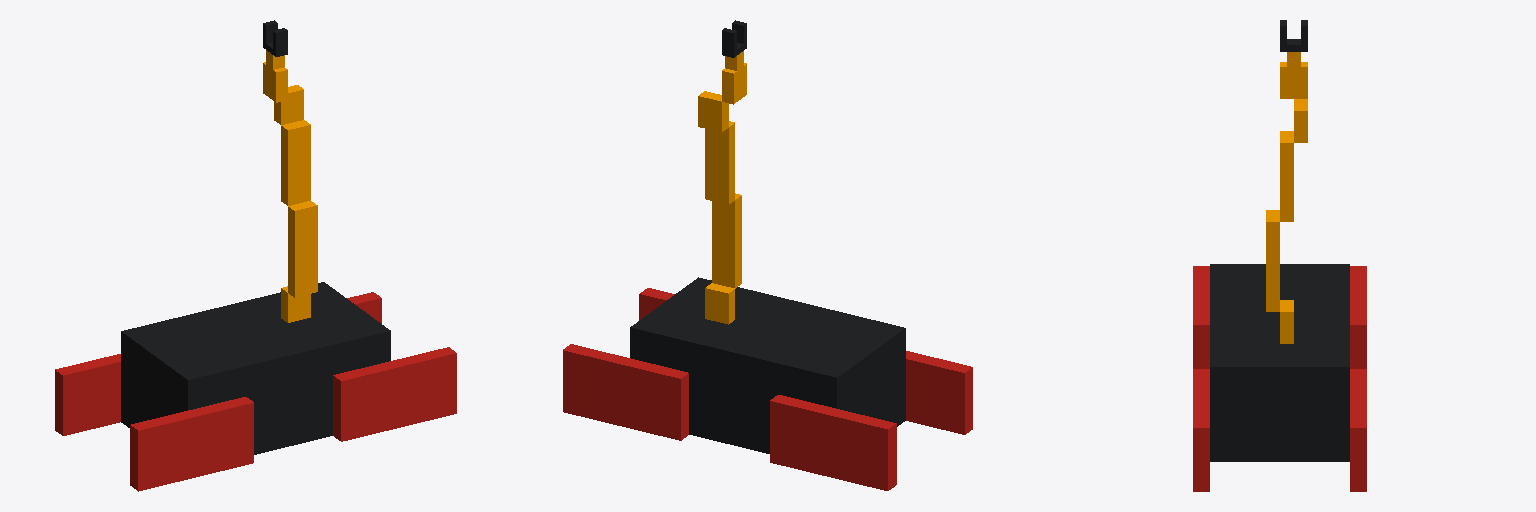
The robot description file, URDF, robot "Lotti":
<?xml version="1.0" ?>
<!-- =================================================================================== -->
<!-- |    This document was autogenerated by xacro from Lotti_main.urdf.xacro          | -->
<!-- |    EDITING THIS FILE BY HAND IS NOT RECOMMENDED                                 | -->
<!-- =================================================================================== -->
<robot name="Lotti">
  <material name="red">
    <color rgba="0.8 0.17254901960784313 0.1411764705882353 1"/>
  </material>
  <material name="black">
    <color rgba="0.15294117647058825 0.1607843137254902 0.16862745098039217 1"/>
  </material>
  <material name="orange">
    <color rgba="1.0 0.6470588235294118 0.0 1"/>
  </material>
  <joint name="arm_link1_joint" type="revolute">
    <origin rpy="0 0 0" xyz="0.14999999999999997 0.02 0.3"/>
    <parent link="body_link"/>
    <child link="arm_link1_link"/>
    <axis xyz="0 0 1"/>
    <limit effort="100" lower="-1.5707963267948966" upper="1.5707963267948966" velocity="10"/>
  </joint>
  <link name="arm_link1_link">
    <visual>
      <origin rpy="0 0 0" xyz="0 0 0.05"/>
      <geometry>
        <box size="0.08 0.04 0.1"/>
      </geometry>
      <material name="orange"/>
    </visual>
    <collision>
      <origin rpy="0 0 0" xyz="0 0 0.05"/>
      <geometry>
        <box size="0.08 0.04 0.1"/>
      </geometry>
    </collision>
    <inertial>
      <origin rpy="0 0 0" xyz="0 0 0.05"/>
      <mass value="0.2"/>
      <inertia ixx="0.0001933333333333334" ixy="0.0" ixz="0.0" iyy="0.00027333333333333333" iyz="0.0" izz="0.00027333333333333333"/>
    </inertial>
  </link>
  <joint name="arm_link2_joint" type="revolute">
    <origin rpy="0 0 0" xyz="0 -0.04 0.1"/>
    <parent link="arm_link1_link"/>
    <child link="arm_link2_link"/>
    <axis xyz="0 1 0"/>
    <limit effort="100" lower="-1.5707963267948966" upper="1.5707963267948966" velocity="10"/>
  </joint>
  <link name="arm_link2_link">
    <visual>
      <origin rpy="0 0 0" xyz="0 0 0.143"/>
      <geometry>
        <box size="0.08 0.04 0.286"/>
      </geometry>
      <material name="orange"/>
    </visual>
    <collision>
      <origin rpy="0 0 0" xyz="0 0 0.143"/>
      <geometry>
        <box size="0.08 0.04 0.286"/>
      </geometry>
    </collision>
    <inertial>
      <origin rpy="0 0 0" xyz="0 0 0.143"/>
      <mass value="0.2"/>
      <inertia ixx="0.001389933333333333" ixy="0.0" ixz="0.0" iyy="0.001469933333333333" iyz="0.0" izz="0.001469933333333333"/>
    </inertial>
  </link>
  <joint name="arm_link3_joint" type="revolute">
    <origin rpy="0 0 0" xyz="0 0.04 0.286"/>
    <parent link="arm_link2_link"/>
    <child link="arm_link3_link"/>
    <axis xyz="0 1 0"/>
    <limit effort="100" lower="-1.5707963267948966" upper="1.5707963267948966" velocity="10"/>
  </joint>
  <link name="arm_link3_link">
    <visual>
      <origin rpy="0 0 0" xyz="0 0 0.125"/>
      <geometry>
        <box size="0.08 0.04 0.25"/>
      </geometry>
      <material name="orange"/>
    </visual>
    <collision>
      <origin rpy="0 0 0" xyz="0 0 0.125"/>
      <geometry>
        <box size="0.08 0.04 0.25"/>
      </geometry>
    </collision>
    <inertial>
      <origin rpy="0 0 0" xyz="0 0 0.125"/>
      <mass value="0.2"/>
      <inertia ixx="0.0010683333333333335" ixy="0.0" ixz="0.0" iyy="0.0011483333333333335" iyz="0.0" izz="0.0011483333333333335"/>
    </inertial>
  </link>
  <joint name="arm_link4_joint" type="revolute">
    <origin rpy="0 0 0" xyz="0 0.04 0.25"/>
    <parent link="arm_link3_link"/>
    <child link="arm_link4_link"/>
    <axis xyz="0 1 0"/>
    <limit effort="100" lower="-1.5707963267948966" upper="1.5707963267948966" velocity="10"/>
  </joint>
  <link name="arm_link4_link">
    <visual>
      <origin rpy="0 0 0" xyz="0 0 0.05"/>
      <geometry>
        <box size="0.08 0.04 0.1"/>
      </geometry>
      <material name="orange"/>
    </visual>
    <collision>
      <origin rpy="0 0 0" xyz="0 0 0.05"/>
      <geometry>
        <box size="0.08 0.04 0.1"/>
      </geometry>
    </collision>
    <inertial>
      <origin rpy="0 0 0" xyz="0 0 0.05"/>
      <mass value="0.2"/>
      <inertia ixx="0.0001933333333333334" ixy="0.0" ixz="0.0" iyy="0.00027333333333333333" iyz="0.0" izz="0.00027333333333333333"/>
    </inertial>
  </link>
  <joint name="arm_link5_joint" type="revolute">
    <origin rpy="0 0 0" xyz="-0.04 -0.02 0.1"/>
    <parent link="arm_link4_link"/>
    <child link="arm_link5_link"/>
    <axis xyz="1 0 0"/>
    <limit effort="100" lower="-1.0471975511965976" upper="1.0471975511965976" velocity="10"/>
  </joint>
  <link name="arm_link5_link">
    <visual>
      <origin rpy="0 0 0" xyz="-0.02 0 0.05"/>
      <geometry>
        <box size="0.04 0.08 0.1"/>
      </geometry>
      <material name="orange"/>
    </visual>
    <collision>
      <origin rpy="0 0 0" xyz="-0.02 0 0.05"/>
      <geometry>
        <box size="0.04 0.08 0.1"/>
      </geometry>
    </collision>
    <inertial>
      <origin rpy="0 0 0" xyz="-0.02 0 0.05"/>
      <mass value="0.2"/>
      <inertia ixx="0.00027333333333333333" ixy="0.0" ixz="0.0" iyy="0.0001933333333333334" iyz="0.0" izz="0.0001933333333333334"/>
    </inertial>
  </link>
  <joint name="arm_link6_joint" type="revolute">
    <origin rpy="0 0 0" xyz="-0.02 0 0.1"/>
    <parent link="arm_link5_link"/>
    <child link="arm_link6_link"/>
    <axis xyz="0 0 -1"/>
    <limit effort="100" lower="-3.141592653589793" upper="3.141592653589793" velocity="10"/>
  </joint>
  <link name="arm_link6_link">
    <visual>
      <origin rpy="0 0 0" xyz="0 0 0.025"/>
      <geometry>
        <box size="0.04 0.04 0.05"/>
      </geometry>
      <material name="orange"/>
    </visual>
    <collision>
      <origin rpy="0 0 0" xyz="0 0 0.025"/>
      <geometry>
        <box size="0.04 0.04 0.05"/>
      </geometry>
    </collision>
    <inertial>
      <origin rpy="0 0 0" xyz="0 0 0.025"/>
      <mass value="0.2"/>
      <inertia ixx="6.833333333333333e-05" ixy="0.0" ixz="0.0" iyy="6.833333333333333e-05" iyz="0.0" izz="6.833333333333333e-05"/>
    </inertial>
  </link>
  <joint name="arm_gripper_joint" type="fixed">
    <origin rpy="0 -1.5707963267948966 0" xyz="0 0 0.05"/>
    <parent link="arm_link6_link"/>
    <child link="arm_gripper_link"/>
  </joint>
  <link name="arm_gripper_link">
    <visual>
      <origin rpy="0 0 0" xyz="0.01 0 0"/>
      <geometry>
        <box size="0.02 0.08 0.04"/>
      </geometry>
      <material name="black"/>
    </visual>
    <visual>
      <origin rpy="0 0 0" xyz="0.05 0.03 0"/>
      <geometry>
        <box size="0.06 0.02 0.04"/>
      </geometry>
      <material name="black"/>
    </visual>
    <visual>
      <origin rpy="0 0 0" xyz="0.05 -0.03 0"/>
      <geometry>
        <box size="0.06 0.02 0.04"/>
      </geometry>
      <material name="black"/>
    </visual>
    <collision>
      <origin rpy="0 0 0" xyz="0.04 0 0"/>
      <geometry>
        <box size="0.08 0.1 0.04"/>
      </geometry>
    </collision>
    <inertial>
      <origin rpy="0 0 0" xyz="0.04 0 0"/>
      <mass value="0.2"/>
      <inertia ixx="0.0001933333333333334" ixy="0.0" ixz="0.0" iyy="0.00013333333333333334" iyz="0.0" izz="0.00013333333333333334"/>
    </inertial>
  </link>
  <link name="body_link">
    <visual>
      <origin rpy="0 0 0" xyz="0 0 0.15"/>
      <geometry>
        <box size="0.7 0.4 0.3"/>
      </geometry>
      <material name="black"/>
    </visual>
    <collision>
      <origin rpy="0 0 0" xyz="0 0 0.15"/>
      <geometry>
        <box size="0.7 0.4 0.3"/>
      </geometry>
    </collision>
    <inertial>
      <origin rpy="0 0 0" xyz="0 0 0.15"/>
      <mass value="25.0"/>
      <inertia ixx="0.5208333333333333" ixy="0.0" ixz="0.0" iyy="1.208333333333333" iyz="0.0" izz="1.208333333333333"/>
    </inertial>
  </link>
  <!-- Front Left Flipper-->
  <joint name="flipper_fr_joint" type="continuous">
    <origin rpy="0 3.141592653589793 0" xyz="0.24999999999999997 0.225 0.1"/>
    <parent link="body_link"/>
    <child link="flipper_fr_link"/>
    <axis xyz="0 1 0"/>
    <!-- <limit effort="100" lower="-1.5707963267948966" upper="1.5707963267948966" velocity="10"/> 
        -->
  </joint>
  <link name="flipper_fr_link">
    <visual>
      <origin rpy="0 0 0" xyz="-0.1 0 0"/>
      <geometry>
        <box size="0.4 0.05 0.2"/>
      </geometry>
      <material name="red"/>
    </visual>
    <collision>
      <origin rpy="0 0 0" xyz="-0.1 0 0"/>
      <geometry>
        <box size="0.4 0.05 0.2"/>
      </geometry>
    </collision>
    <inertial>
      <origin rpy="0 0 0" xyz="-0.1 0 0"/>
      <mass value="3.0"/>
      <inertia ixx="0.010625000000000002" ixy="0.0" ixz="0.0" iyy="0.05000000000000001" iyz="0.0" izz="0.05000000000000001"/>
    </inertial>
  </link>
  <!-- Front Right Flipper-->
  <joint name="flipper_fl_joint" type="continuous">
    <origin rpy="0 3.141592653589793 0" xyz="0.24999999999999997 -0.225 0.1"/>
    <parent link="body_link"/>
    <child link="flipper_fl_link"/>
    <axis xyz="0 1 0"/>
    <!-- <limit effort="100" lower="-1.5707963267948966" upper="1.5707963267948966" velocity="10"/> 
        -->
  </joint>
  <link name="flipper_fl_link">
    <visual>
      <origin rpy="0 0 0" xyz="-0.1 0 0"/>
      <geometry>
        <box size="0.4 0.05 0.2"/>
      </geometry>
      <material name="red"/>
    </visual>
    <collision>
      <origin rpy="0 0 0" xyz="-0.1 0 0"/>
      <geometry>
        <box size="0.4 0.05 0.2"/>
      </geometry>
    </collision>
    <inertial>
      <origin rpy="0 0 0" xyz="-0.1 0 0"/>
      <mass value="3.0"/>
      <inertia ixx="0.010625000000000002" ixy="0.0" ixz="0.0" iyy="0.05000000000000001" iyz="0.0" izz="0.05000000000000001"/>
    </inertial>
  </link>
  <!-- Rear Left Flipper-->
  <joint name="flipper_rr_joint" type="continuous">
    <origin rpy="0 0 0" xyz="-0.24999999999999997 0.225 0.1"/>
    <parent link="body_link"/>
    <child link="flipper_rr_link"/>
    <axis xyz="0 -1 0"/>
    <!-- <limit effort="100" lower="-1.5707963267948966" upper="1.5707963267948966" velocity="10"/> 
        -->
  </joint>
  <link name="flipper_rr_link">
    <visual>
      <origin rpy="0 0 0" xyz="-0.1 0 0"/>
      <geometry>
        <box size="0.4 0.05 0.2"/>
      </geometry>
      <material name="red"/>
    </visual>
    <collision>
      <origin rpy="0 0 0" xyz="-0.1 0 0"/>
      <geometry>
        <box size="0.4 0.05 0.2"/>
      </geometry>
    </collision>
    <inertial>
      <origin rpy="0 0 0" xyz="-0.1 0 0"/>
      <mass value="3.0"/>
      <inertia ixx="0.010625000000000002" ixy="0.0" ixz="0.0" iyy="0.05000000000000001" iyz="0.0" izz="0.05000000000000001"/>
    </inertial>
  </link>
  <!-- Rear Right Flipper-->
  <joint name="flipper_rl_joint" type="continuous">
    <origin rpy="0 0 0" xyz="-0.24999999999999997 -0.225 0.1"/>
    <parent link="body_link"/>
    <child link="flipper_rl_link"/>
    <axis xyz="0 -1 0"/>
    <!-- <limit effort="100" lower="-1.5707963267948966" upper="1.5707963267948966" velocity="10"/> 
        -->
  </joint>
  <link name="flipper_rl_link">
    <visual>
      <origin rpy="0 0 0" xyz="-0.1 0 0"/>
      <geometry>
        <box size="0.4 0.05 0.2"/>
      </geometry>
      <material name="red"/>
    </visual>
    <collision>
      <origin rpy="0 0 0" xyz="-0.1 0 0"/>
      <geometry>
        <box size="0.4 0.05 0.2"/>
      </geometry>
    </collision>
    <inertial>
      <origin rpy="0 0 0" xyz="-0.1 0 0"/>
      <mass value="3.0"/>
      <inertia ixx="0.010625000000000002" ixy="0.0" ixz="0.0" iyy="0.05000000000000001" iyz="0.0" izz="0.05000000000000001"/>
    </inertial>
  </link>
  <!--     
    <xacro:include filename="Lotti_gazebo_control.xacro"/>
    <xacro:include filename="Lotti_ros2_control.xacro"/>
-->
  <!-- world origin 
    <link name="world"></link>
-->
</robot>

--- Render facts (derived) ---
3 views of the same robot in one strip: view 1: azimuth 30°, elevation 25°; view 2: azimuth 150°, elevation 25°; view 3: azimuth 270°, elevation 25° (orthographic).
Model Lotti with 12 links and 11 joints (6 revolute, 4 continuous, 1 fixed), rooted at body_link, posed every joint at zero.
Visible links, largest first — view 1: body_link, flipper_fl_link, flipper_rl_link, flipper_rr_link, arm_link2_link, arm_link3_link, arm_link4_link, arm_link1_link, arm_link5_link, arm_gripper_link, flipper_fr_link; view 2: body_link, flipper_rr_link, flipper_fr_link, flipper_rl_link, arm_link2_link, arm_link3_link, arm_link1_link, arm_link4_link, arm_link5_link, arm_gripper_link, flipper_fl_link; view 3: body_link, flipper_fr_link, flipper_fl_link, flipper_rr_link, flipper_rl_link, arm_link2_link, arm_link3_link, arm_link5_link, arm_gripper_link, arm_link1_link, arm_link4_link.
Link boxes in pixels (x1,y1,x2,y2): body_link: [121, 282, 390, 454]; flipper_fl_link: [333, 347, 456, 441]; flipper_rl_link: [130, 397, 253, 491]; flipper_rr_link: [55, 354, 120, 435]; arm_link2_link: [288, 201, 317, 297]; arm_link3_link: [281, 120, 310, 205]; arm_link4_link: [274, 85, 303, 124]; arm_link1_link: [281, 286, 310, 322]; arm_link5_link: [263, 62, 287, 102]; arm_gripper_link: [263, 20, 287, 56]; flipper_fr_link: [347, 292, 381, 323]; body_link: [630, 277, 905, 453]; flipper_rr_link: [770, 395, 896, 490]; flipper_fr_link: [563, 344, 688, 440]; flipper_rl_link: [906, 351, 972, 434]; arm_link2_link: [712, 193, 741, 288]; arm_link3_link: [705, 121, 734, 204]; arm_link1_link: [705, 283, 734, 324]; arm_link4_link: [698, 91, 728, 132]; arm_link5_link: [722, 63, 746, 104]; arm_gripper_link: [722, 20, 746, 57]; flipper_fl_link: [639, 288, 674, 320]; body_link: [1210, 264, 1349, 461]; flipper_fr_link: [1350, 369, 1366, 491]; flipper_fl_link: [1193, 369, 1209, 491]; flipper_rr_link: [1350, 266, 1366, 368]; flipper_rl_link: [1193, 266, 1209, 368]; arm_link2_link: [1266, 210, 1279, 311]; arm_link3_link: [1280, 131, 1293, 221]; arm_link5_link: [1280, 62, 1307, 98]; arm_gripper_link: [1280, 20, 1307, 51]; arm_link1_link: [1280, 300, 1293, 343]; arm_link4_link: [1294, 99, 1307, 142].
Bounding box of the posed robot: 1.1 × 0.5 × 1.27 m (x, y, z).
Geometry: primitives only (box / cylinder / sphere), no mesh files.
